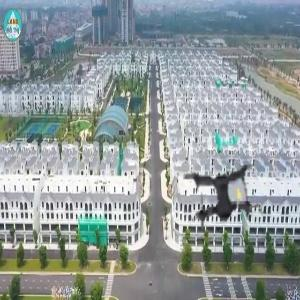drone: (174, 149, 272, 247)
